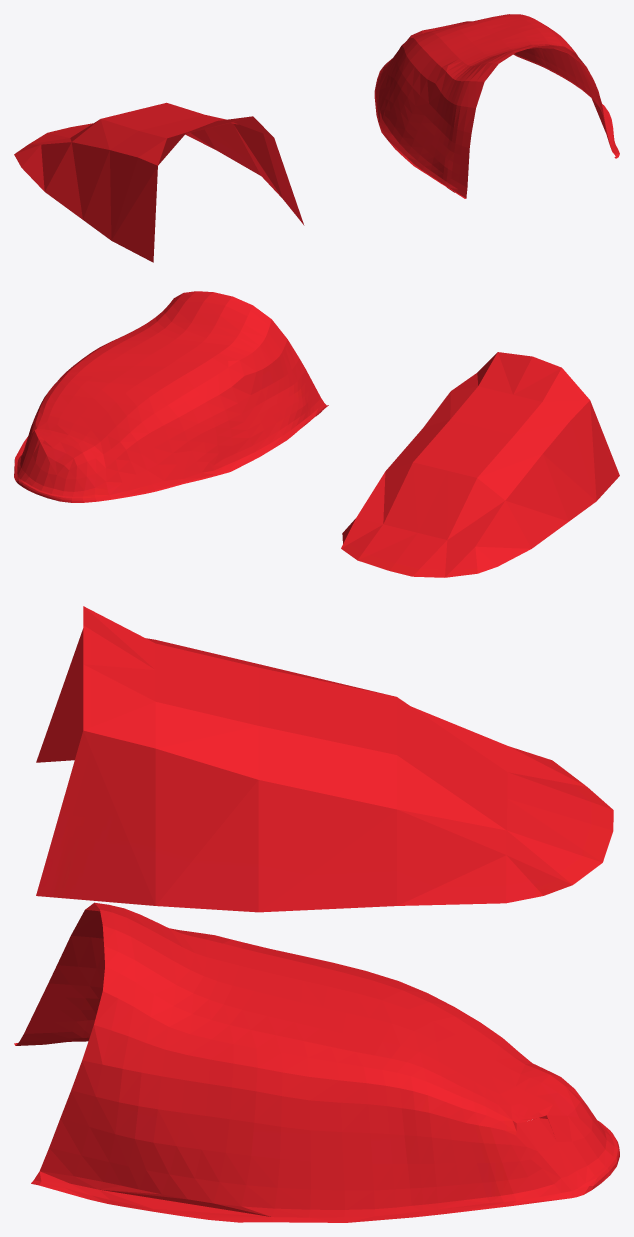
Rendered from espadrille.obj.
The picture shows the model from 3 angles, top to bottom: view 1: azimuth 30°, elevation 25°; view 2: azimuth 150°, elevation 25°; view 3: azimuth 270°, elevation 25°; orthographic projection. The views are drawn at different scales.
Parts seen in each view (by area): view 1: Plane, BezierCurveE_CUBezierCurveE; view 2: BezierCurveE_CUBezierCurveE, Plane; view 3: BezierCurveE_CUBezierCurveE, Plane.
Part boxes in pixels (x1=…): Plane: x1=14, y1=102, x2=304, y2=262; BezierCurveE_CUBezierCurveE: x1=374, y1=14, x2=619, y2=198; BezierCurveE_CUBezierCurveE: x1=14, y1=291, x2=328, y2=502; Plane: x1=341, y1=352, x2=619, y2=577; BezierCurveE_CUBezierCurveE: x1=14, y1=902, x2=619, y2=1222; Plane: x1=36, y1=606, x2=613, y2=912.
Size of the model in its own units: 26.07 by 5.93 by 14.62.
